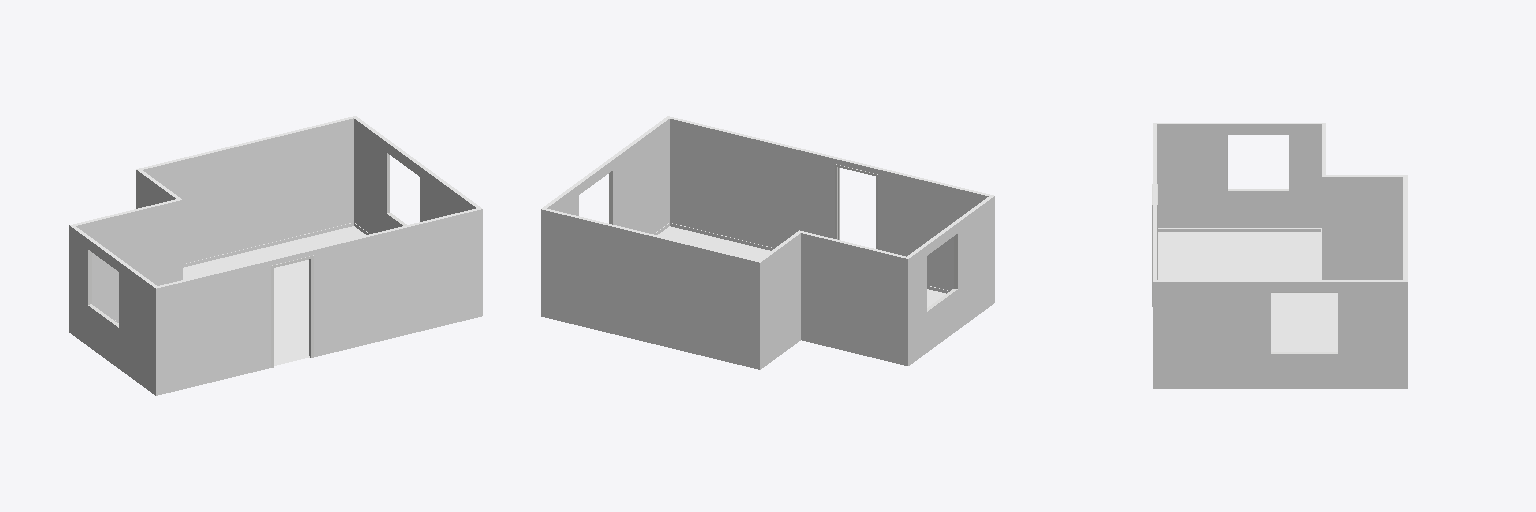
Rendered from room_elle.obj.
The picture shows the model from 3 angles: view 1: azimuth 30°, elevation 25°; view 2: azimuth 150°, elevation 25°; view 3: azimuth 270°, elevation 25°; orthographic projection.
Parts seen in each view (by area): view 1: room_elle; view 2: room_elle; view 3: room_elle.
Boxes of the visible parts, <box> form: room_elle: <box>69,116,482,395</box>; room_elle: <box>541,116,994,369</box>; room_elle: <box>1152,123,1407,388</box>.
Bounding box in the file's own units: 8.71 × 2.73 × 5.89.